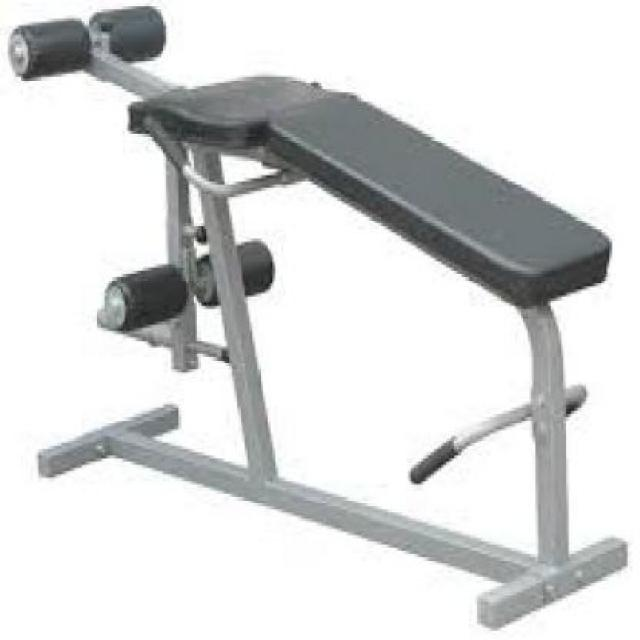reg curl machine: (1, 0, 634, 634)
